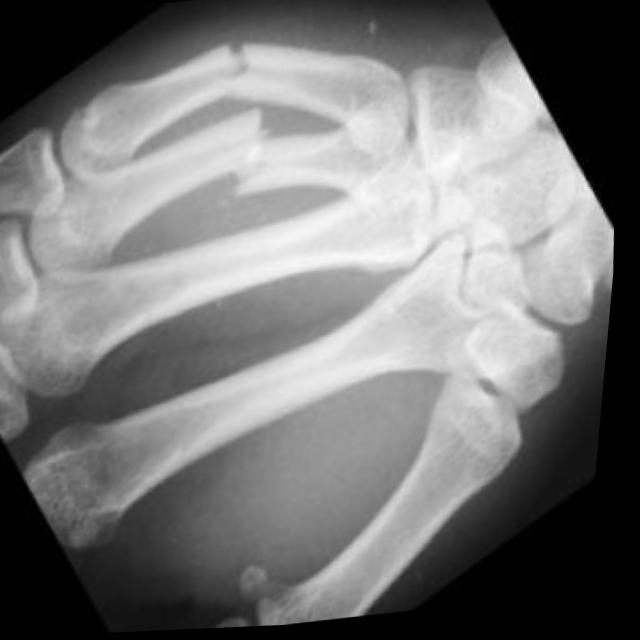fracture: (215, 112, 283, 213), (207, 34, 263, 97)
